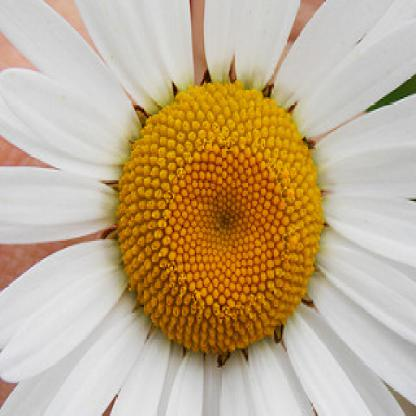ASTER: (12, 11, 402, 393)
